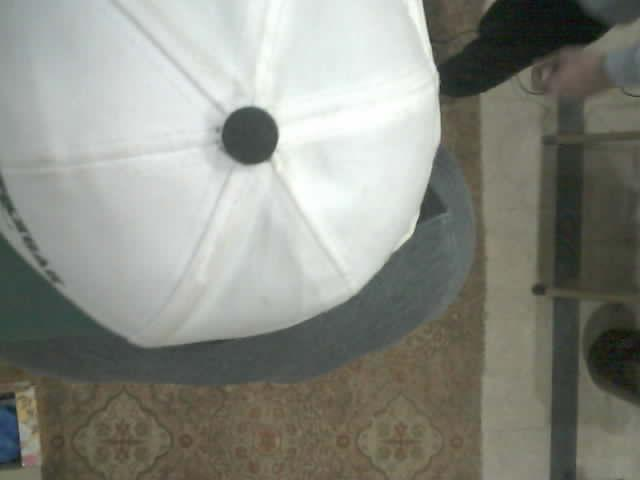cap: (0, 0, 440, 373)
